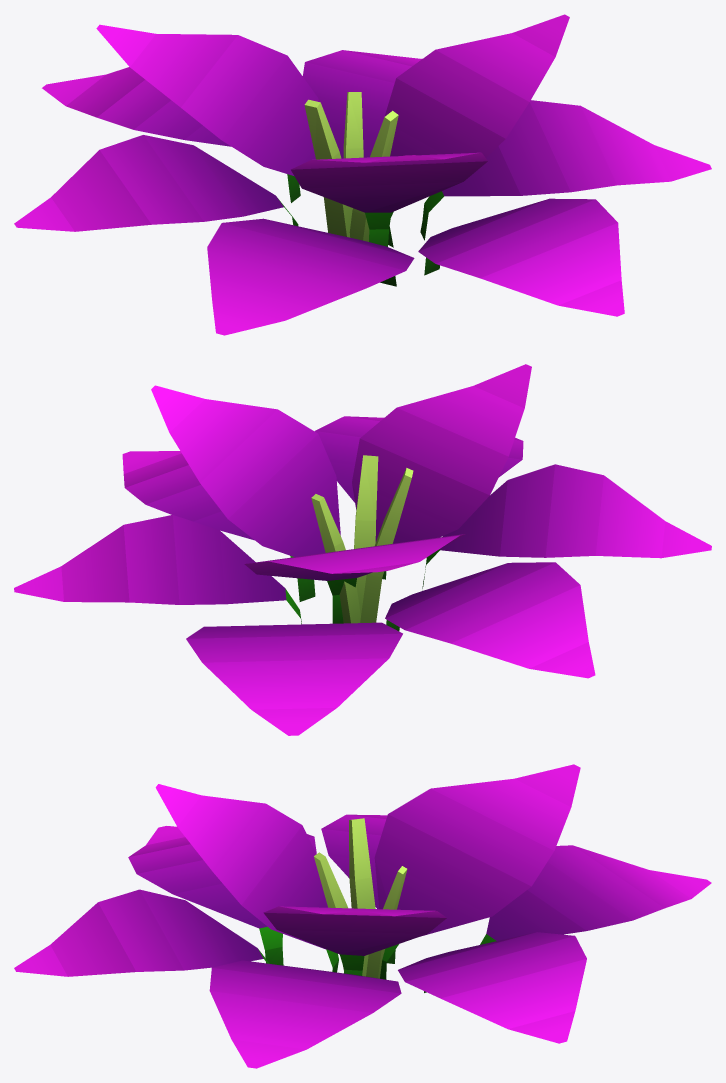
File: VEG0310001.fbx
3 renders of one model, top to bottom at view 1: azimuth 30°, elevation 25°; view 2: azimuth 150°, elevation 25°; view 3: azimuth 270°, elevation 25°, orthographic. The views are drawn at different scales.
Visible parts, largest first — view 1: smVEG0310001; view 2: smVEG0310001; view 3: smVEG0310001.
Boxes of the visible parts, <box> form: smVEG0310001: <box>14,14,711,335</box>; smVEG0310001: <box>14,364,711,735</box>; smVEG0310001: <box>14,764,711,1068</box>.
Bounding box in the file's own units: 129 × 39.68 × 145.
1 material, 1 textured.
